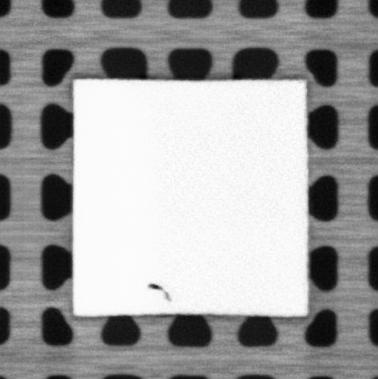DIE_INK: (147, 282, 172, 301)
